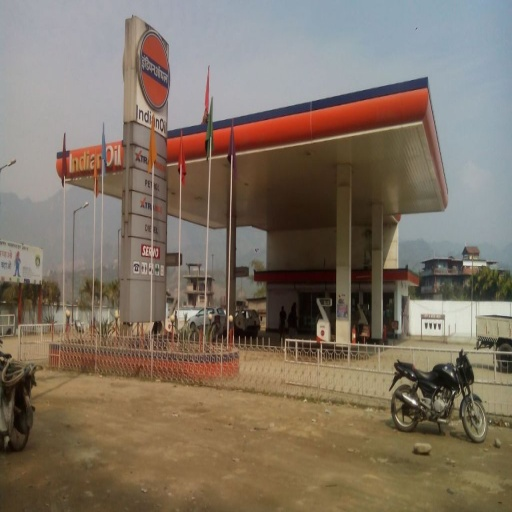roof: (57, 77, 460, 229)
